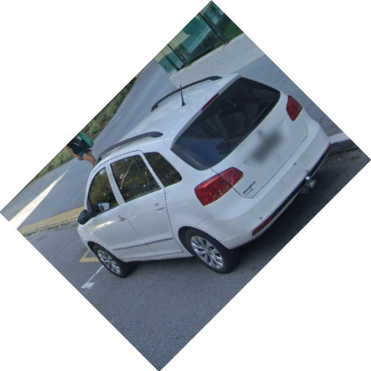car: (76, 74, 331, 279)
